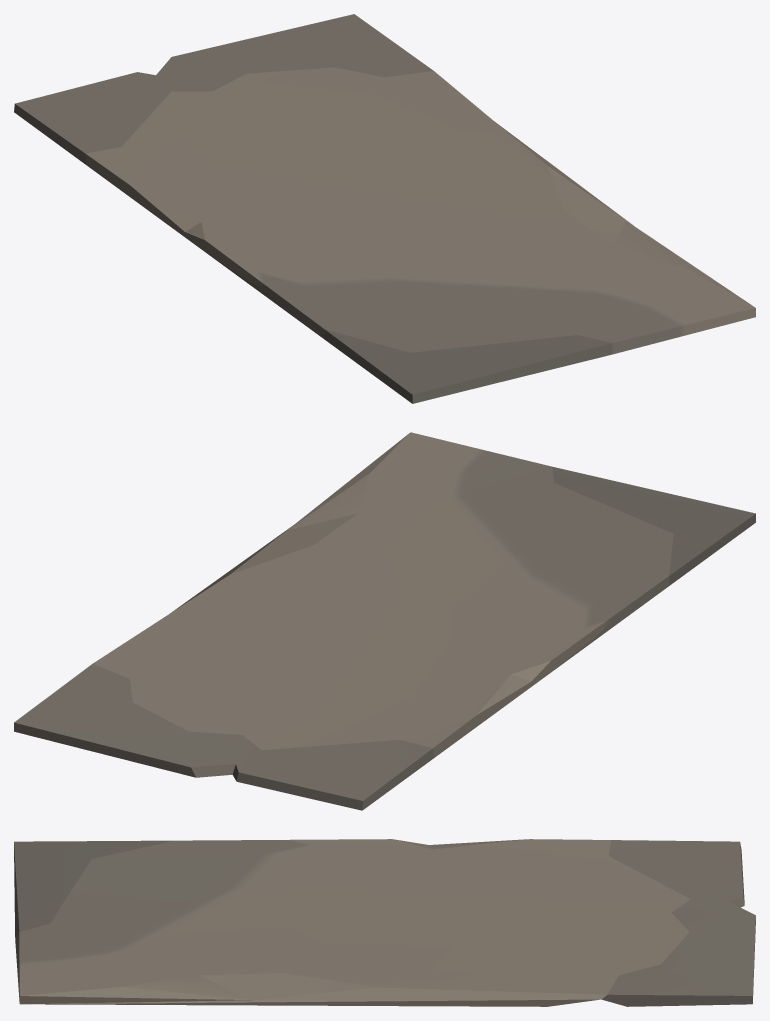
The model's file is SM_Prop_WoodSheet_01.obj.
3 views of the same model, one above another, from view 1: azimuth 30°, elevation 25°; view 2: azimuth 150°, elevation 25°; view 3: azimuth 270°, elevation 25° (orthographic). The views are drawn at different scales.
Visible parts, largest first — view 1: SM_Prop_WoodSheet_01_0; view 2: SM_Prop_WoodSheet_01_0; view 3: SM_Prop_WoodSheet_01_0.
Boxes of the visible parts, x1=… form: SM_Prop_WoodSheet_01_0: x1=14, y1=14, x2=755, y2=403; SM_Prop_WoodSheet_01_0: x1=14, y1=432, x2=755, y2=810; SM_Prop_WoodSheet_01_0: x1=14, y1=839, x2=755, y2=1006.
Bounding box in the file's own units: 1.73 × 0.0699 × 3.52.
1 material, 1 textured.
